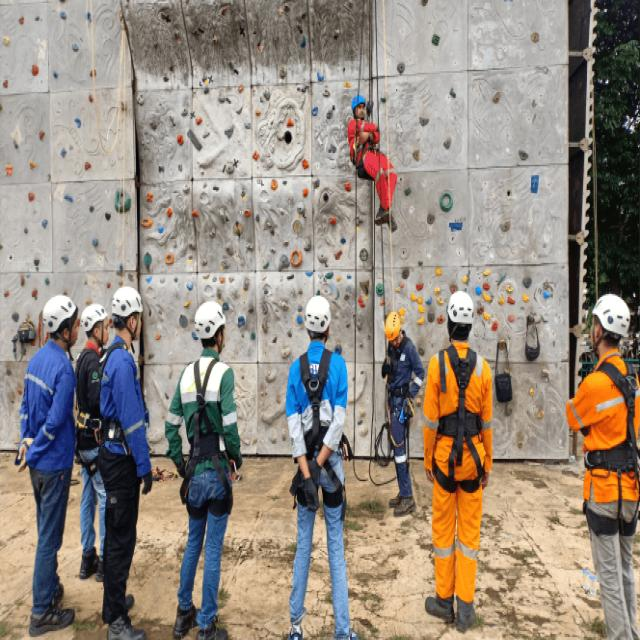vest: (422, 350, 492, 600), (385, 336, 424, 498), (347, 116, 397, 212)
